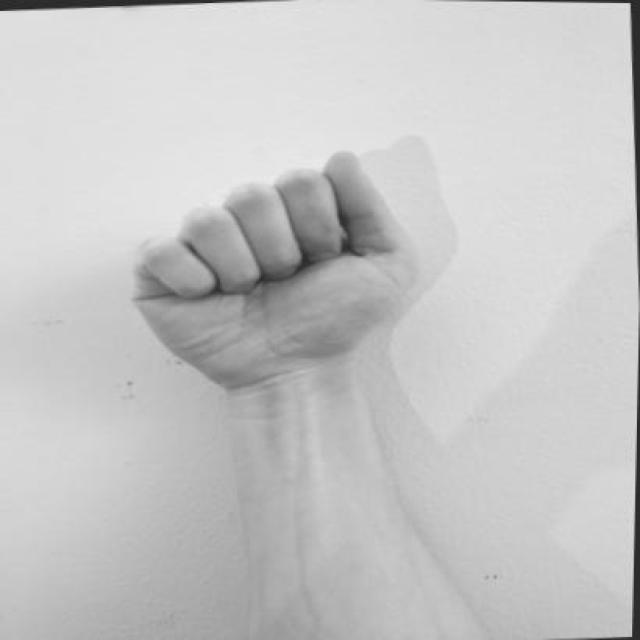A: (120, 135, 435, 437)
